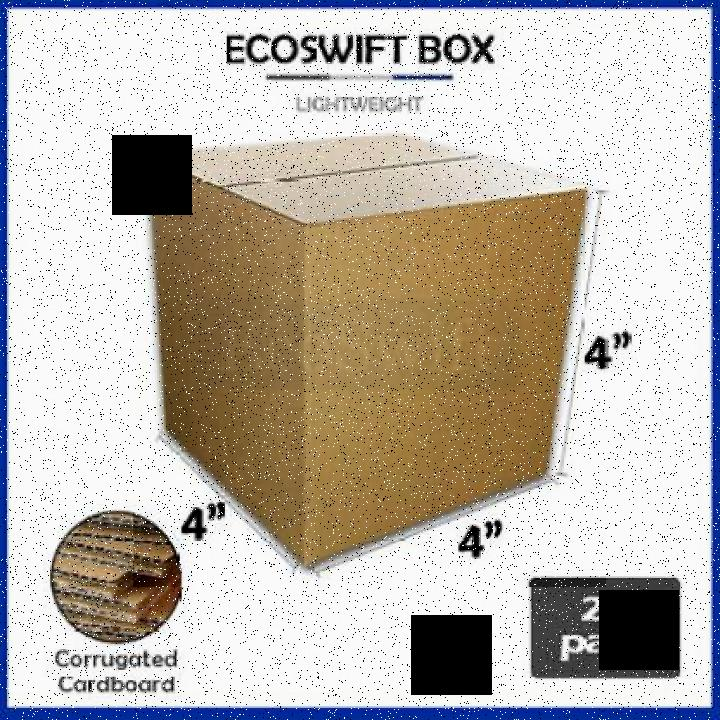box: (133, 123, 608, 587)
